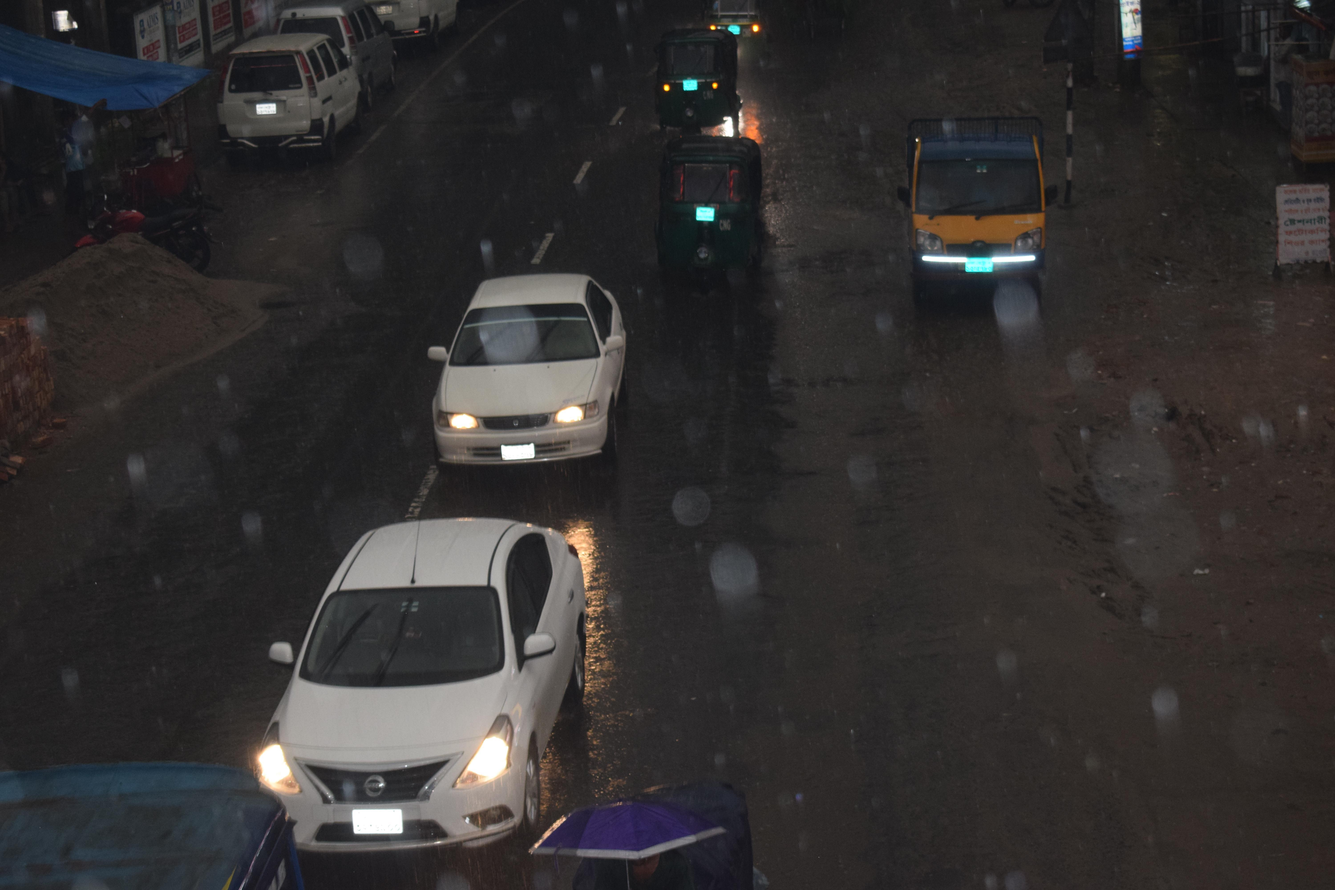Car: (213, 477, 613, 890), (377, 236, 676, 494), (195, 25, 394, 186), (284, 0, 430, 106)
Truck: (866, 68, 1092, 321)
